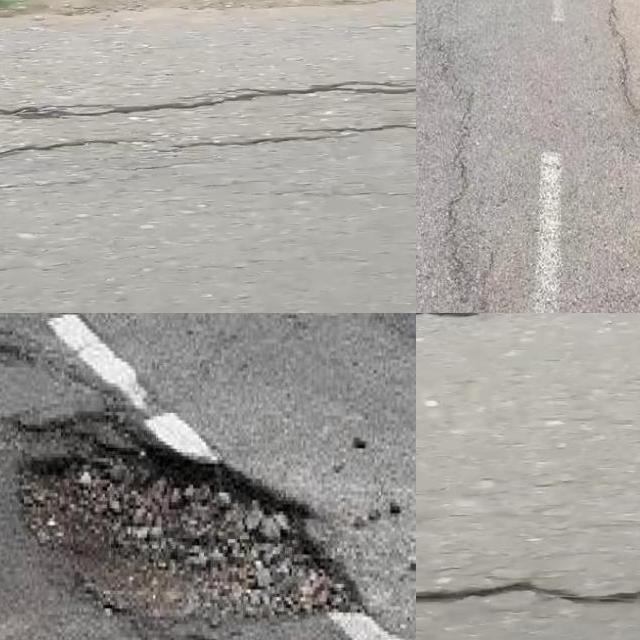Lubang: (14, 409, 375, 640)
Melintang: (0, 64, 416, 129), (416, 566, 640, 618)
Memanjang: (436, 54, 499, 313)
